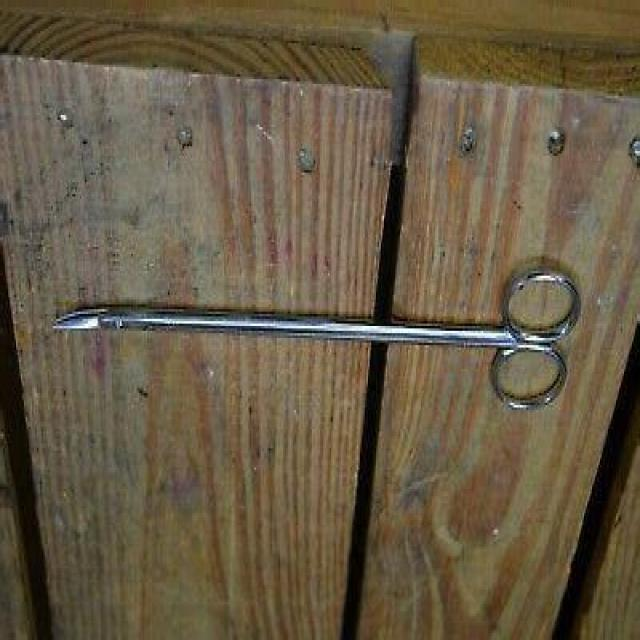Potts: (44, 252, 586, 424)
